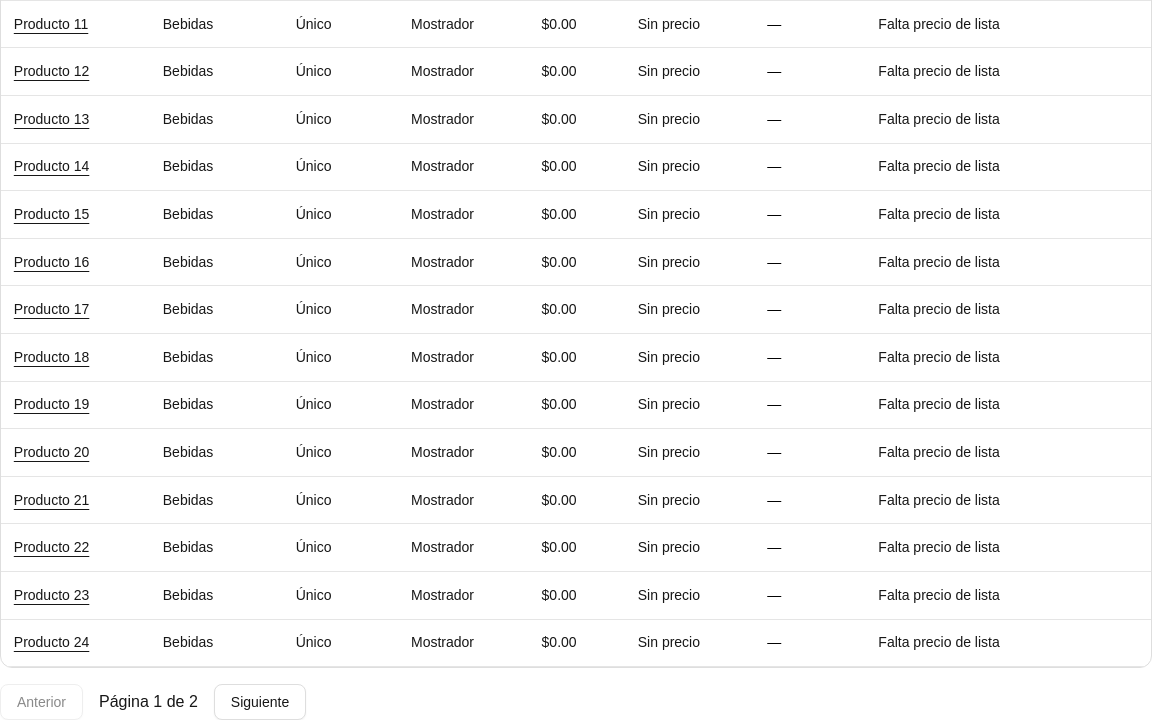
Test: incluye costo cero/sin precio, pagina todos los resultados y mantiene filtros en URL
(page scrolled)
Click the button "Siguiente" at (260, 702), box [214,684,306,719]
(page scrolled)
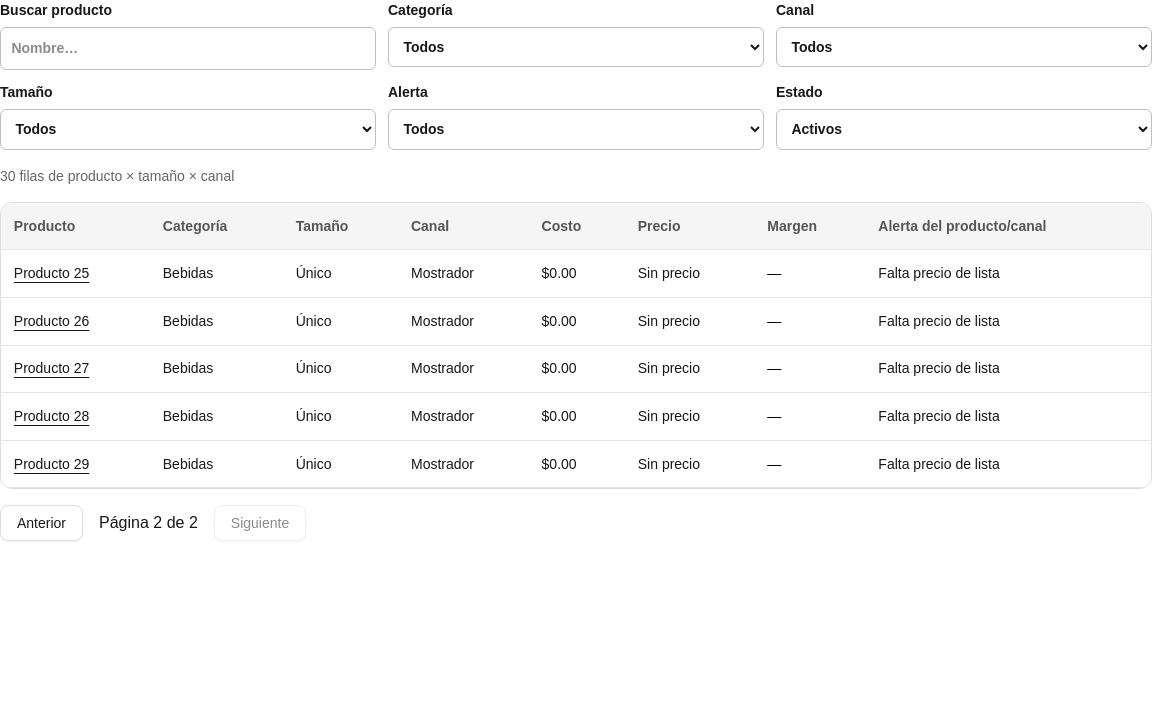
Result: the link "Producto 29" is shown at [14,456,89,472]
Type "Producto 29" into the field labelled "Buscar producto" at (188, 48), box [0,27,376,70]
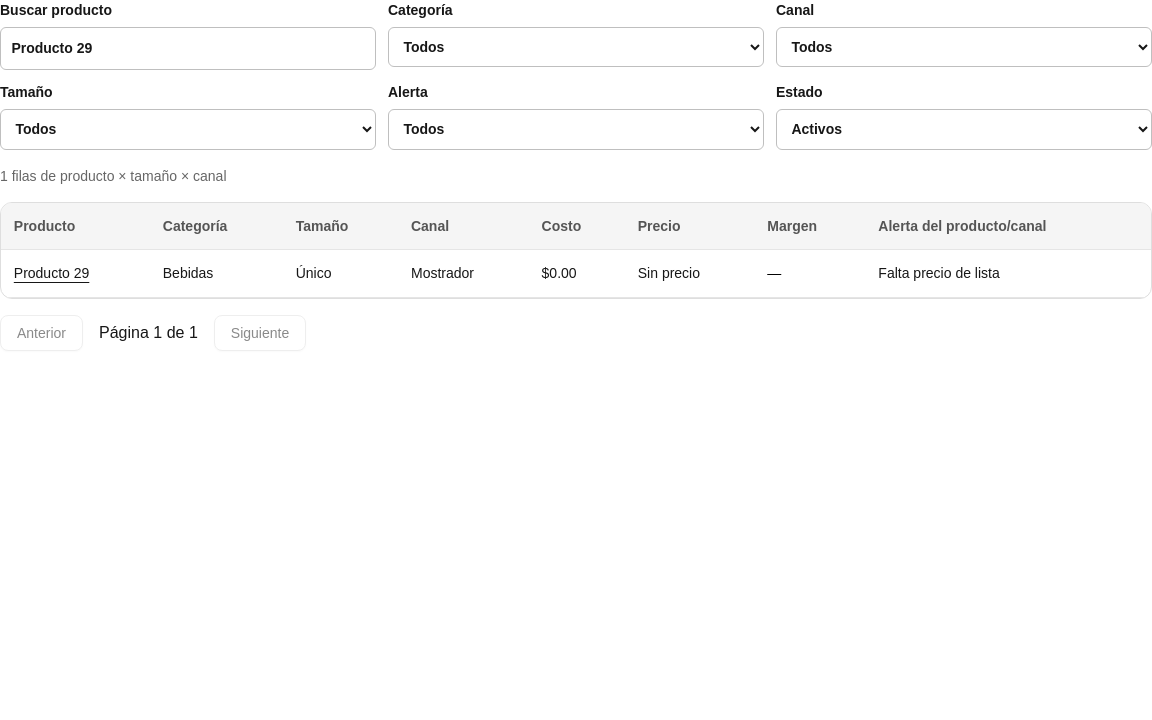
Result: the number of links is 1 at [14,265,89,281]
